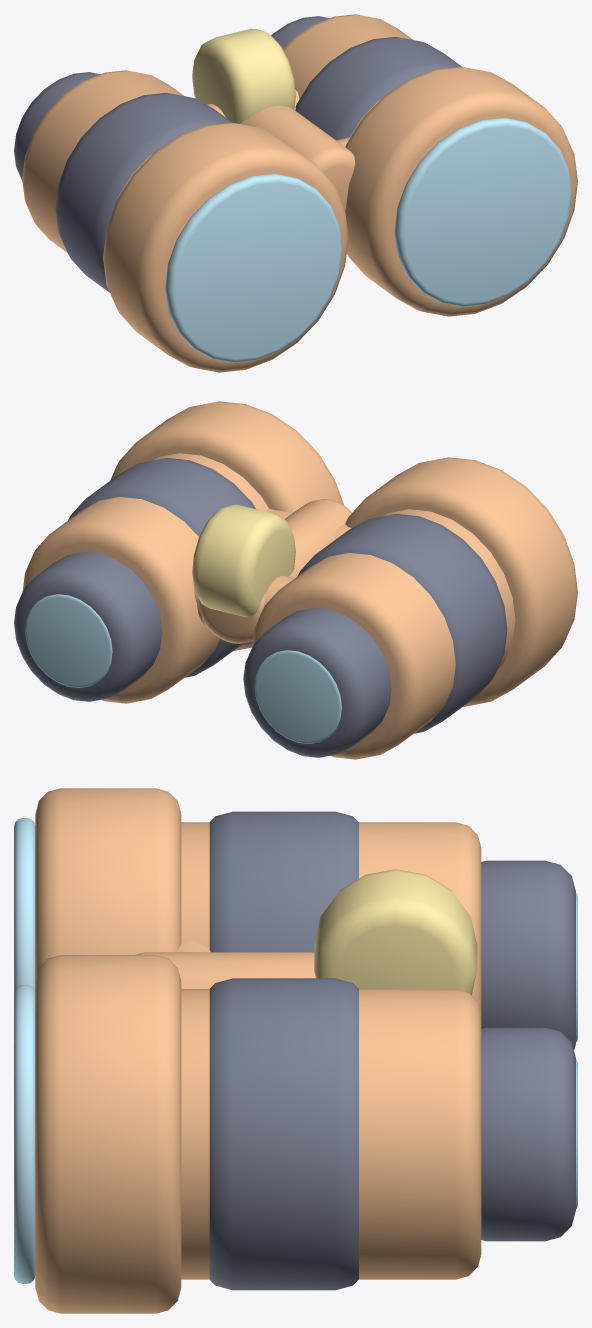
The model's file is Binoculars.fbx.
3 renders of one model, top to bottom at view 1: azimuth 30°, elevation 25°; view 2: azimuth 150°, elevation 25°; view 3: azimuth 270°, elevation 25°, orthographic. The views are drawn at different scales.
Visible parts, largest first — view 1: Binoculars; view 2: Binoculars; view 3: Binoculars.
Boxes of the visible parts, bbox=[...] form: Binoculars: bbox=[14, 14, 577, 372]; Binoculars: bbox=[14, 401, 577, 759]; Binoculars: bbox=[14, 788, 577, 1313].
Size of the model in its own units: 0.176 by 0.085 by 0.1315.
